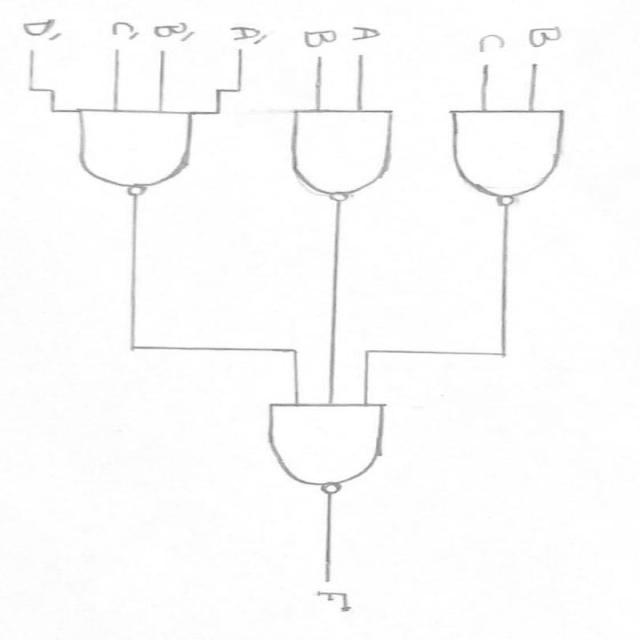NAND: (251, 392, 424, 508), (38, 102, 228, 199), (267, 98, 413, 215), (436, 96, 576, 212)
